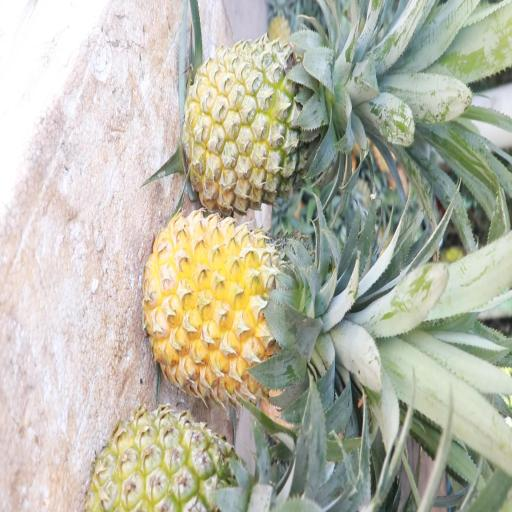------------------------------: (187, 46, 349, 214), (97, 409, 255, 512)
Pineapple - v8 v1: (145, 216, 333, 394)
